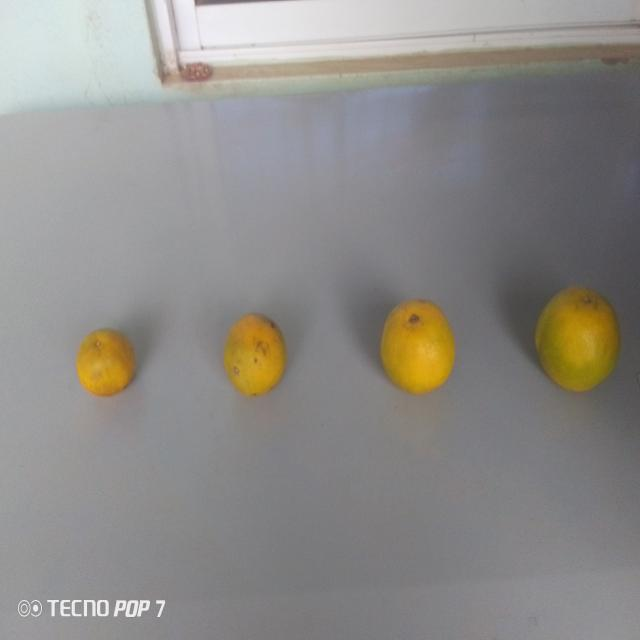Ripe orange: (526, 281, 626, 396), (376, 293, 462, 399), (222, 310, 292, 406), (76, 318, 138, 404)
